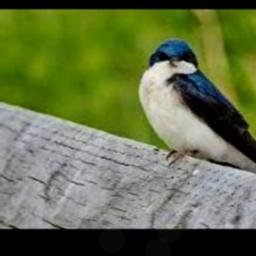Swallow: (138, 39, 256, 180)
